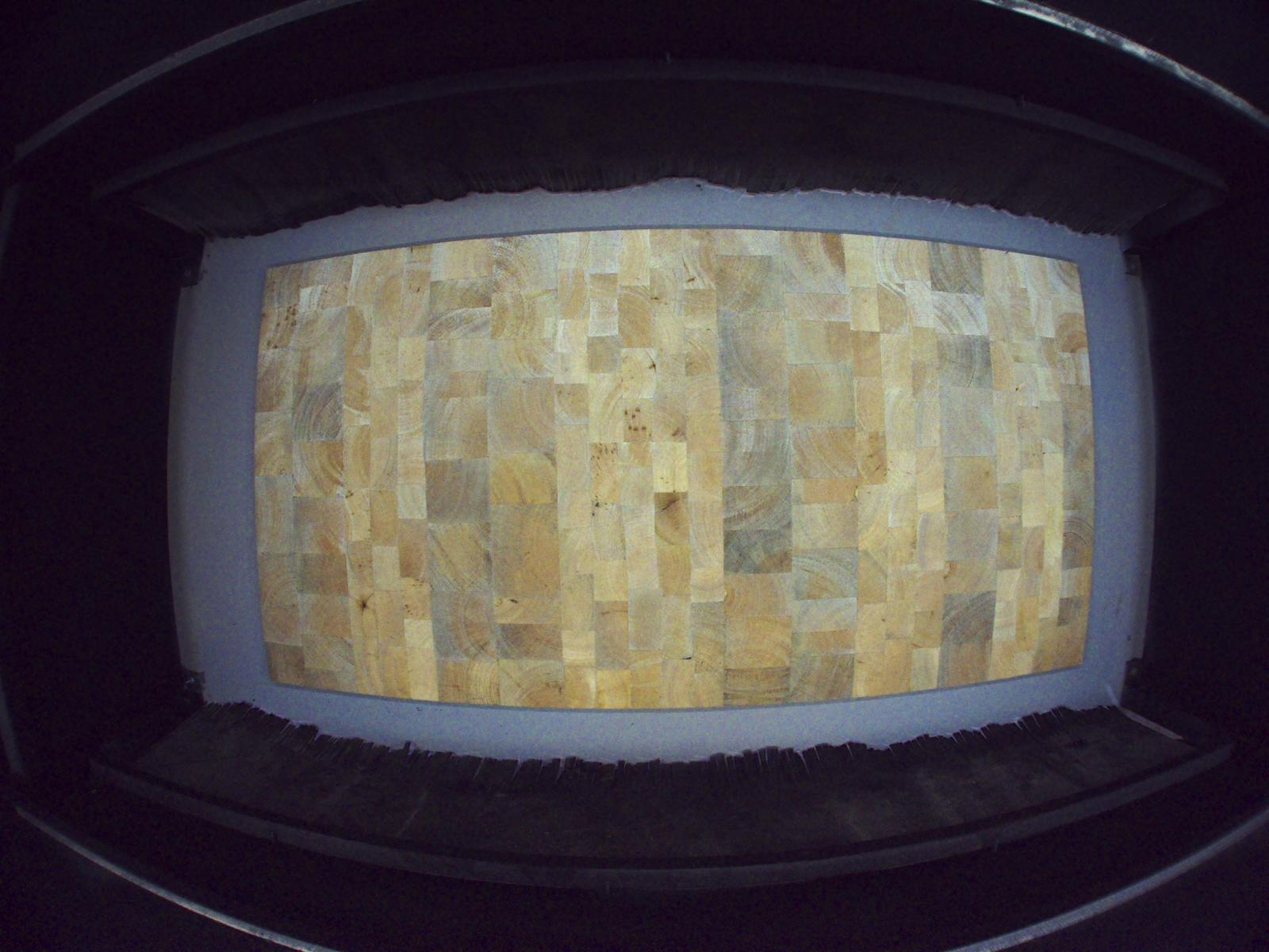sheck_ecuatoriano: (349, 590, 376, 639), (644, 350, 657, 375)
